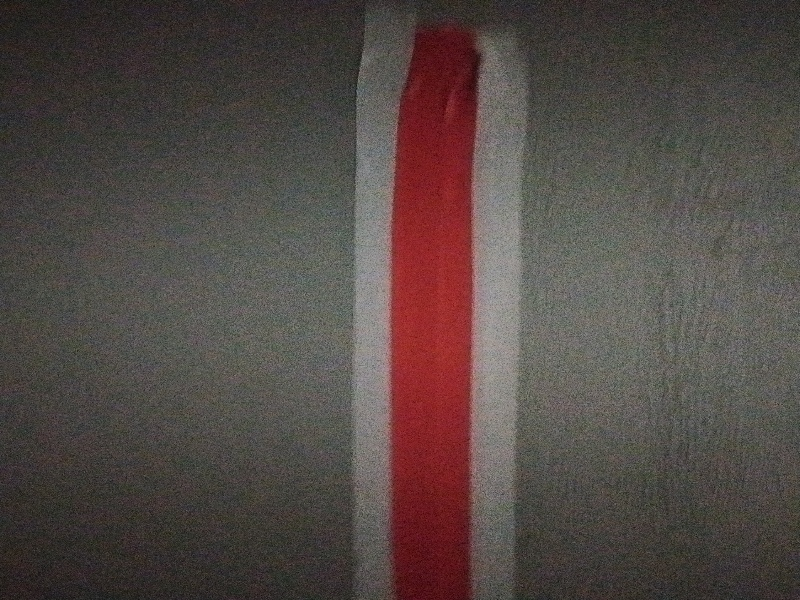reta: (340, 32, 532, 600)
